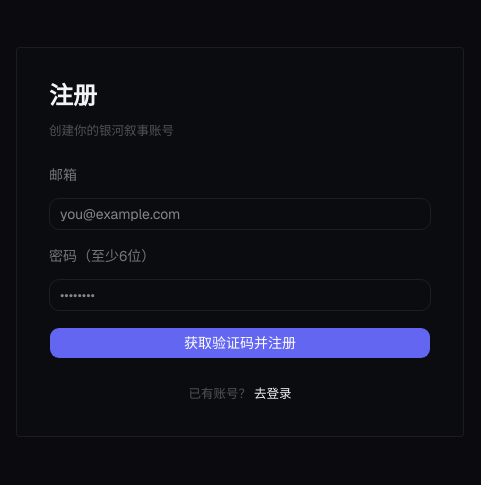
RegisterPage 注册流程 state machine › handleSendCode 邮箱格式非法(单字符 TLD):不调 signUp,显示格式错误
In the field named "邮箱": (240, 214) [49,198,431,230], type "xxx@qq.c"
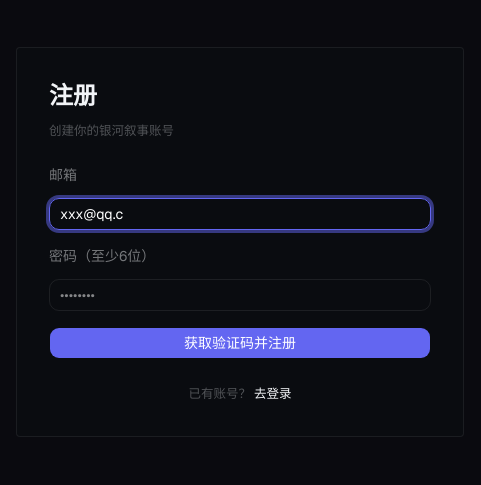
In the password field named "密码（至少6位）": (240, 295) [49,279,431,311], type "password123"
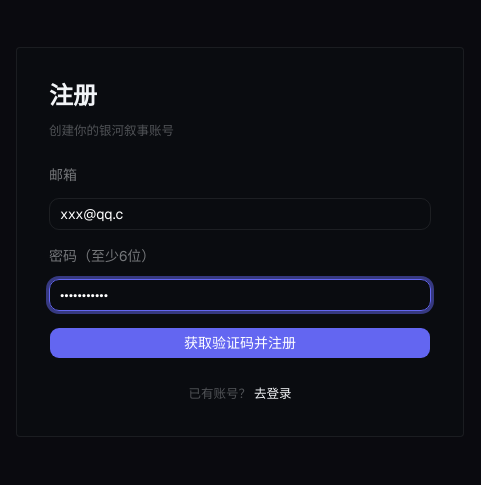
Click the button "获取验证码并注册": (240, 343) [49,327,431,359]
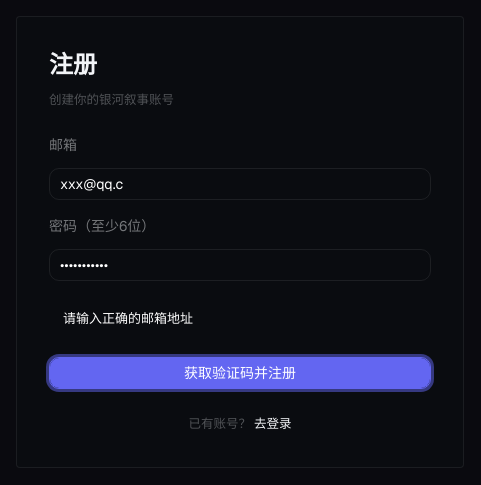
Expected: the text "请输入正确的邮箱地址" is shown, [63,310,193,327]
